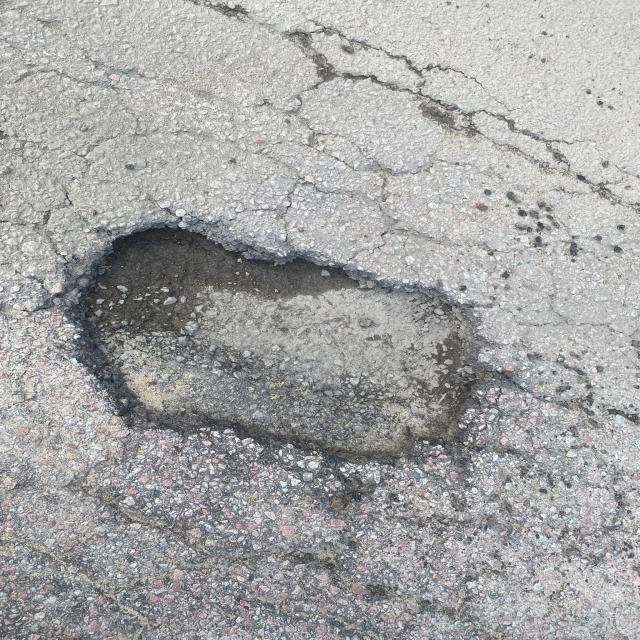Pothole: (61, 194, 523, 519)
